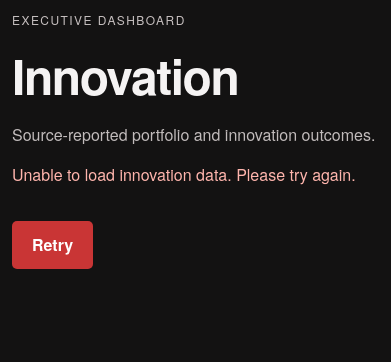
Test: Risk and innovation views › renders empty innovation sections and retries a failure
Expected: the message shows "Unable to load", [12,163,356,186]
Click the button "Retry". click: (53, 245)
box: [12,221,93,269]
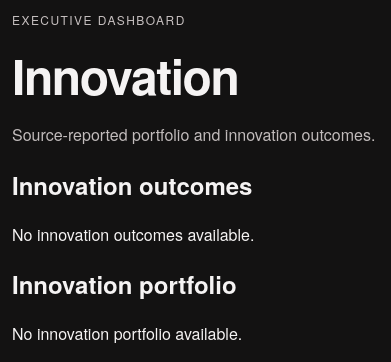
Now the text "No innovation outcomes available." is shown, box [12,223,254,246]
Now the text "No innovation portfolio available." is shown, box [12,322,242,345]
